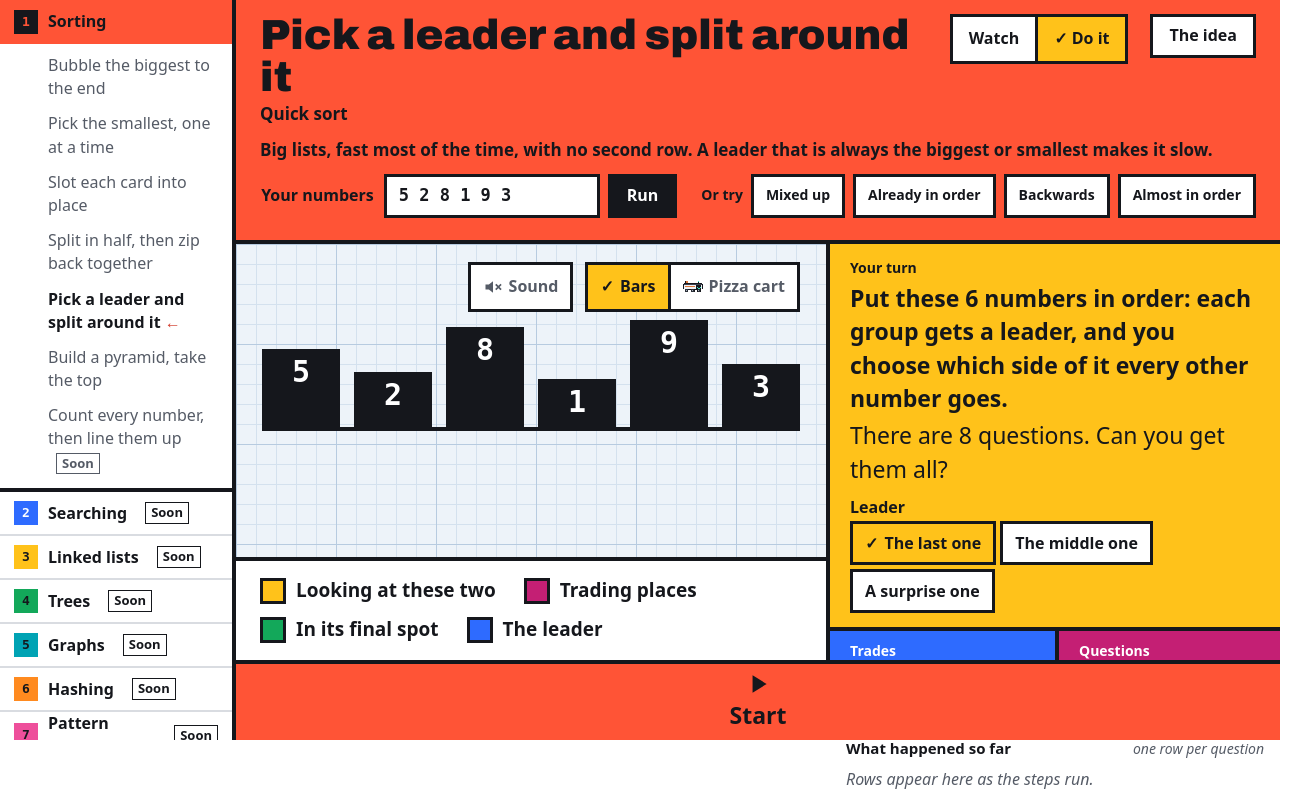
Test: quick sort: Do it › Explorer: Left side (L) and Right side (R); right answers move on
This screenshot has width=1292, height=800.
Click the button "Start". click: {"x": 758, "y": 702}
box: [236,664,1280,740]
Wait 4000 ms
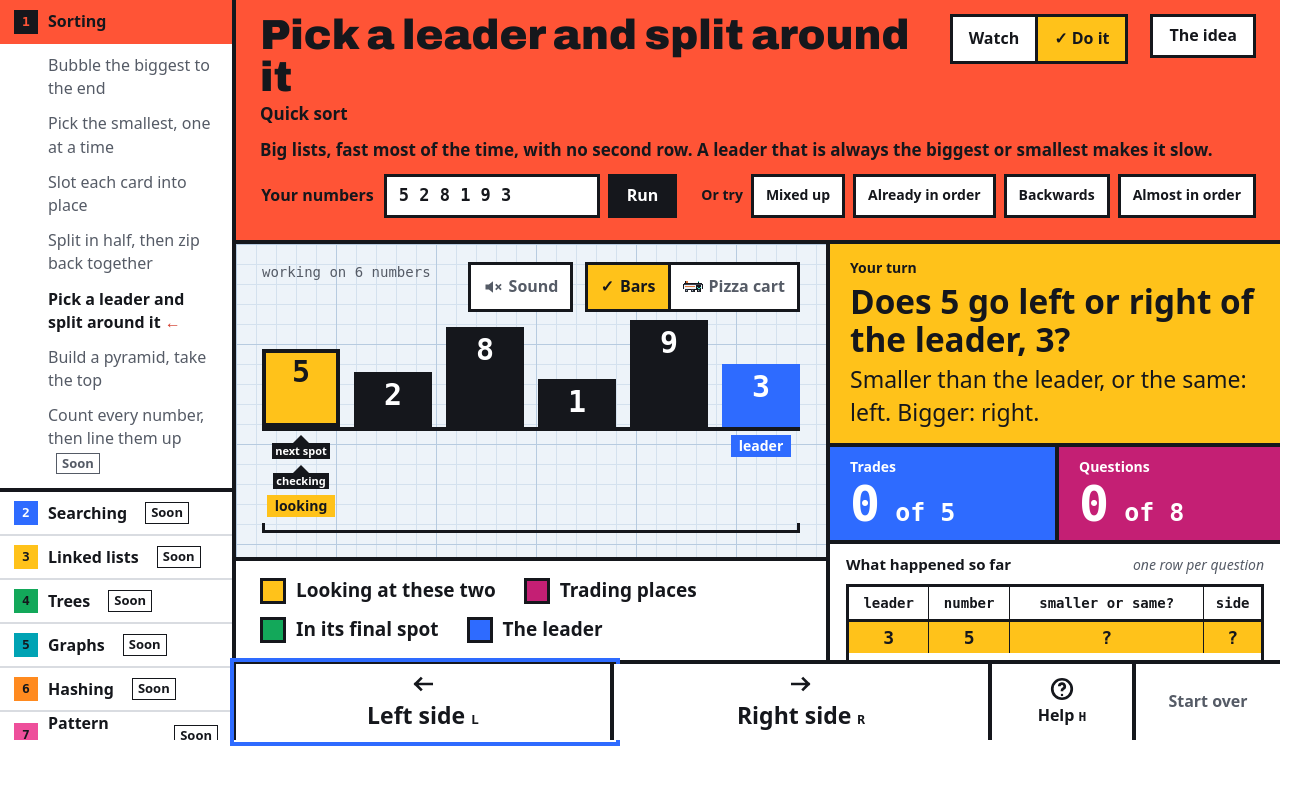
Expected: the text with class "do-it-question" reads "Does 5 go left or right of the leader, 3?", [850,278,1254,362]
Expected: the element with class "do-it-panel" shows "Smaller than the leader, or the same: left. Bigger: right.", [850,363,1247,428]
Type keys "r"
Wait 2000 ms
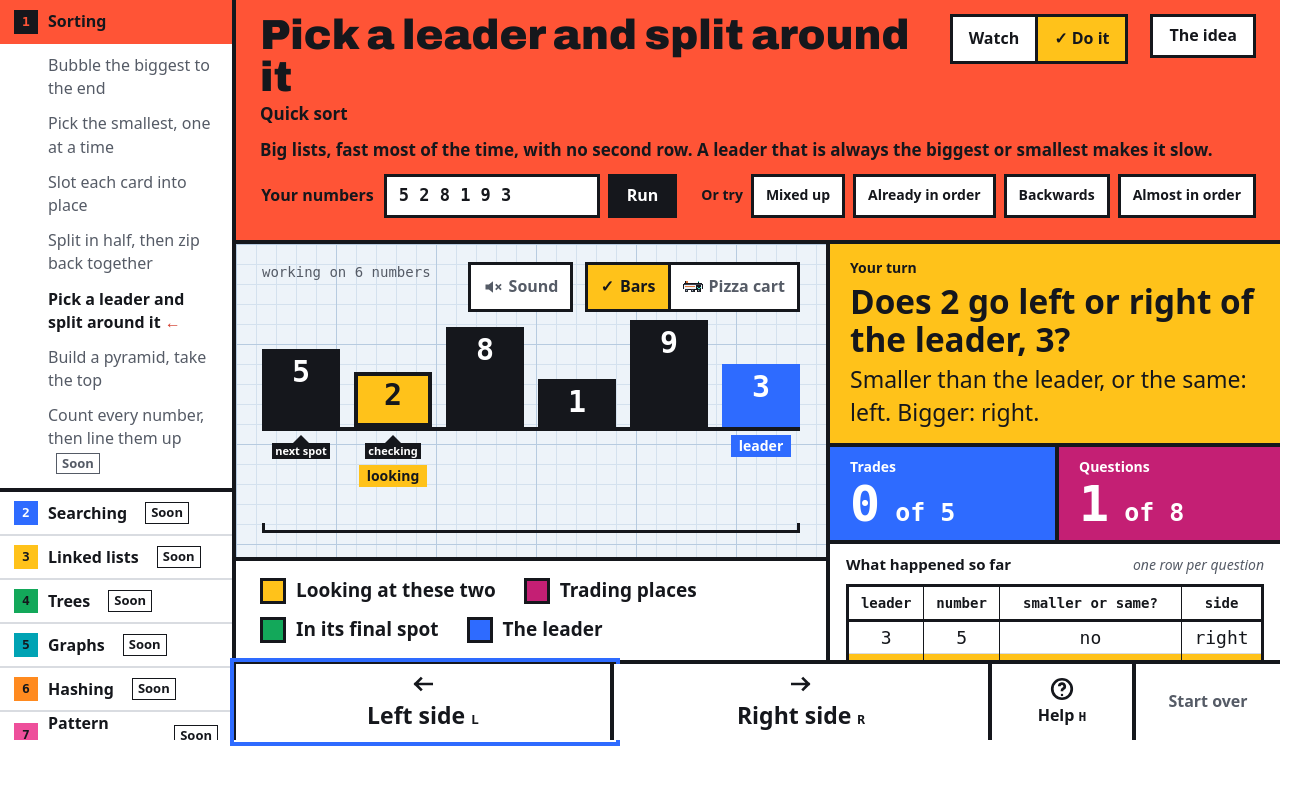
Expected: the text with class "do-it-question" reads "Does 2 go left or right of the leader, 3?", [850,278,1254,362]
Click the button "Left side L". click: {"x": 425, "y": 702}
box: [236,664,614,740]
Wait 2000 ms
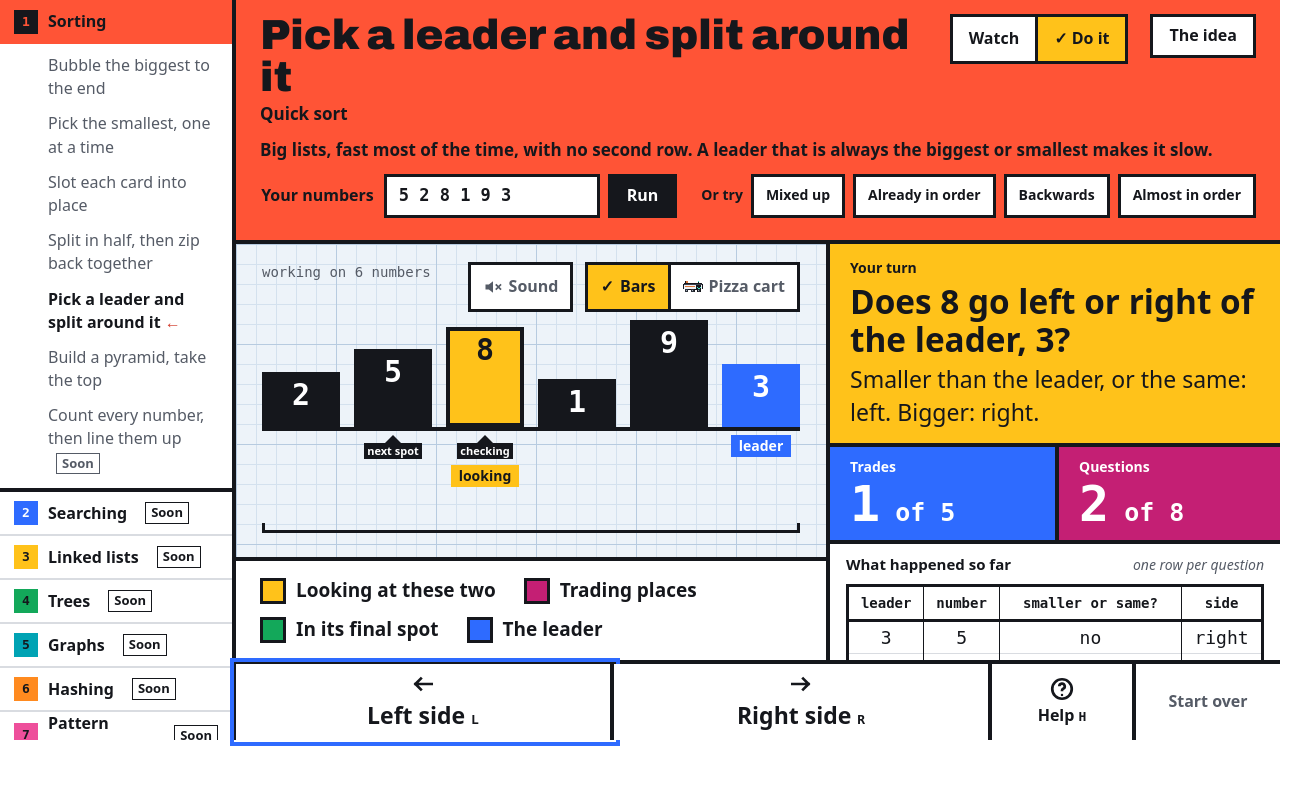
Expected: the text with class "do-it-question" reads "Does 8 go left or right of the leader, 3?", [850,278,1254,362]
